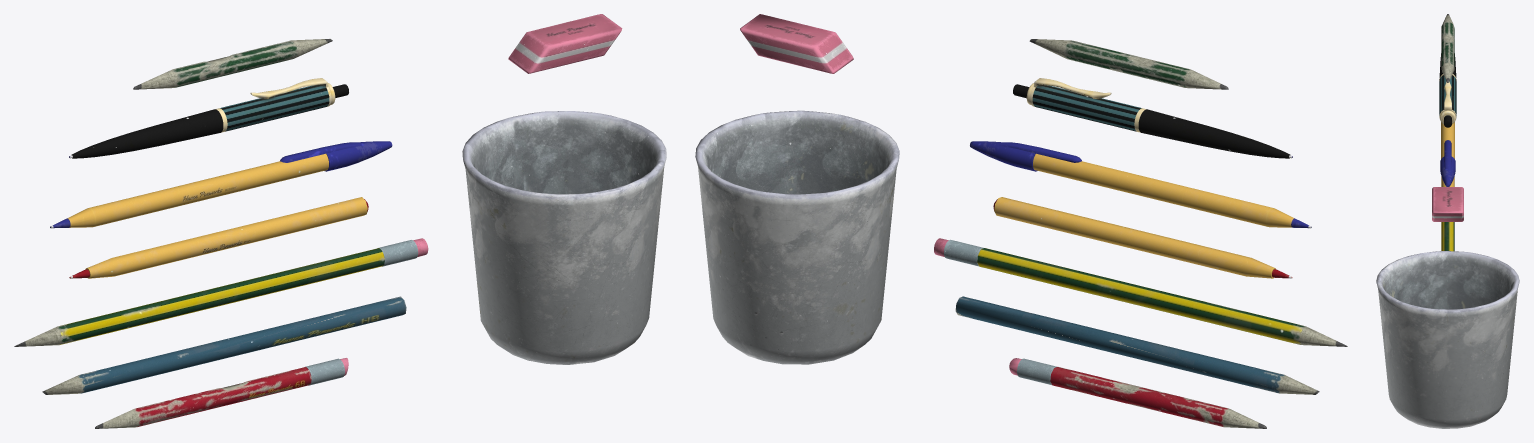
The model's file is stationery_supplies.glb.
3 views of the same model, side by side, from view 1: azimuth 30°, elevation 25°; view 2: azimuth 150°, elevation 25°; view 3: azimuth 270°, elevation 25° (orthographic). The views are drawn at different scales.
Visible parts, largest first — view 1: stationery_supplies_pencilcup, stationery_supplies_pencil_new_a, stationery_supplies_pencil_new_b, stationery_supplies_pen_blue, stationery_supplies_pen_fancy, stationery_supplies_pen_red, stationery_supplies_pencil_used, stationery_supplies_eraser, stationery_supplies_pencil_old; view 2: stationery_supplies_pencilcup, stationery_supplies_pencil_new_a, stationery_supplies_pencil_new_b, stationery_supplies_pen_blue, stationery_supplies_pen_fancy, stationery_supplies_pen_red, stationery_supplies_pencil_used, stationery_supplies_eraser, stationery_supplies_pencil_old; view 3: stationery_supplies_pencilcup, stationery_supplies_eraser, stationery_supplies_pen_fancy, stationery_supplies_pen_blue, stationery_supplies_pencil_old, stationery_supplies_pencil_new_a.
Part boxes in pixels (box(x1,y1,x2,y2)): stationery_supplies_pencilcup: box(462, 111, 666, 364); stationery_supplies_pencil_new_a: box(14, 238, 428, 346); stationery_supplies_pencil_new_b: box(42, 296, 406, 394); stationery_supplies_pen_blue: box(50, 141, 392, 228); stationery_supplies_pen_fancy: box(69, 78, 348, 158); stationery_supplies_pen_red: box(69, 197, 368, 278); stationery_supplies_pencil_used: box(95, 358, 348, 428); stationery_supplies_eraser: box(508, 14, 622, 73); stationery_supplies_pencil_old: box(133, 39, 332, 89); stationery_supplies_pencilcup: box(695, 110, 899, 364); stationery_supplies_pencil_new_a: box(934, 238, 1347, 346); stationery_supplies_pencil_new_b: box(955, 296, 1319, 394); stationery_supplies_pen_blue: box(970, 141, 1311, 228); stationery_supplies_pen_fancy: box(1013, 78, 1292, 158); stationery_supplies_pen_red: box(993, 197, 1292, 278); stationery_supplies_pencil_used: box(1009, 358, 1266, 428); stationery_supplies_eraser: box(740, 14, 853, 73); stationery_supplies_pencil_old: box(1029, 39, 1228, 89); stationery_supplies_pencilcup: box(1376, 251, 1519, 428); stationery_supplies_eraser: box(1432, 187, 1463, 221); stationery_supplies_pen_fancy: box(1439, 53, 1456, 127); stationery_supplies_pen_blue: box(1440, 122, 1455, 186); stationery_supplies_pencil_old: box(1441, 14, 1454, 82); stationery_supplies_pencil_new_a: box(1441, 222, 1454, 251).
Bounding box in the file's own units: 0.302 × 0.1644 × 0.0839.
1 material, 1 textured.
